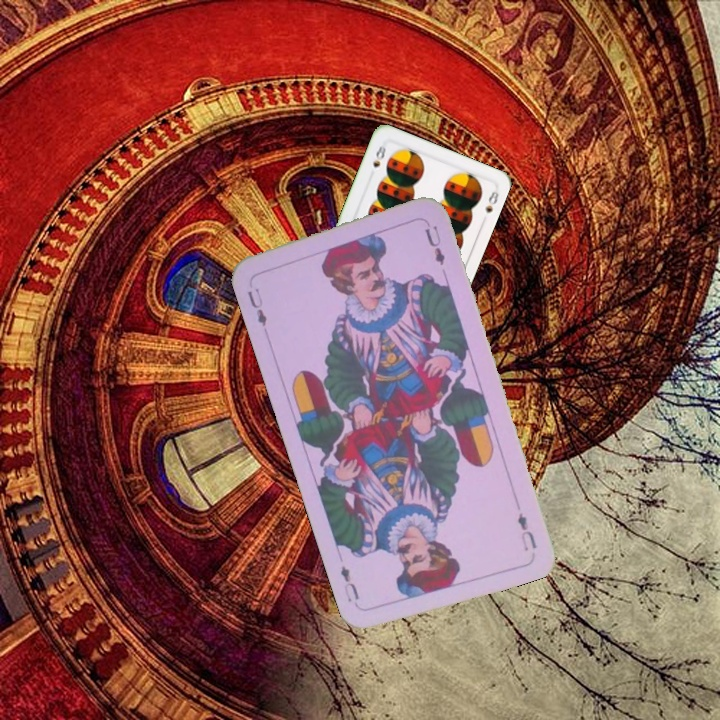EU: (243, 284, 270, 329), (513, 508, 540, 553)
S8: (369, 138, 388, 170)
